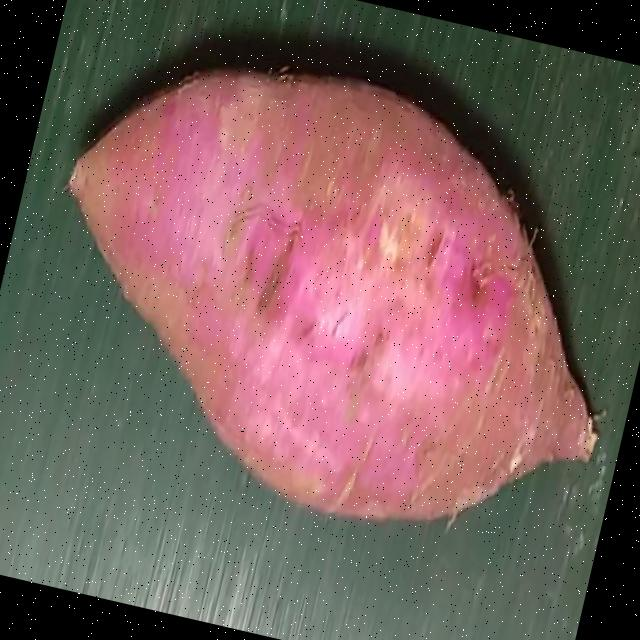Sweet Potato: (62, 65, 597, 521)
